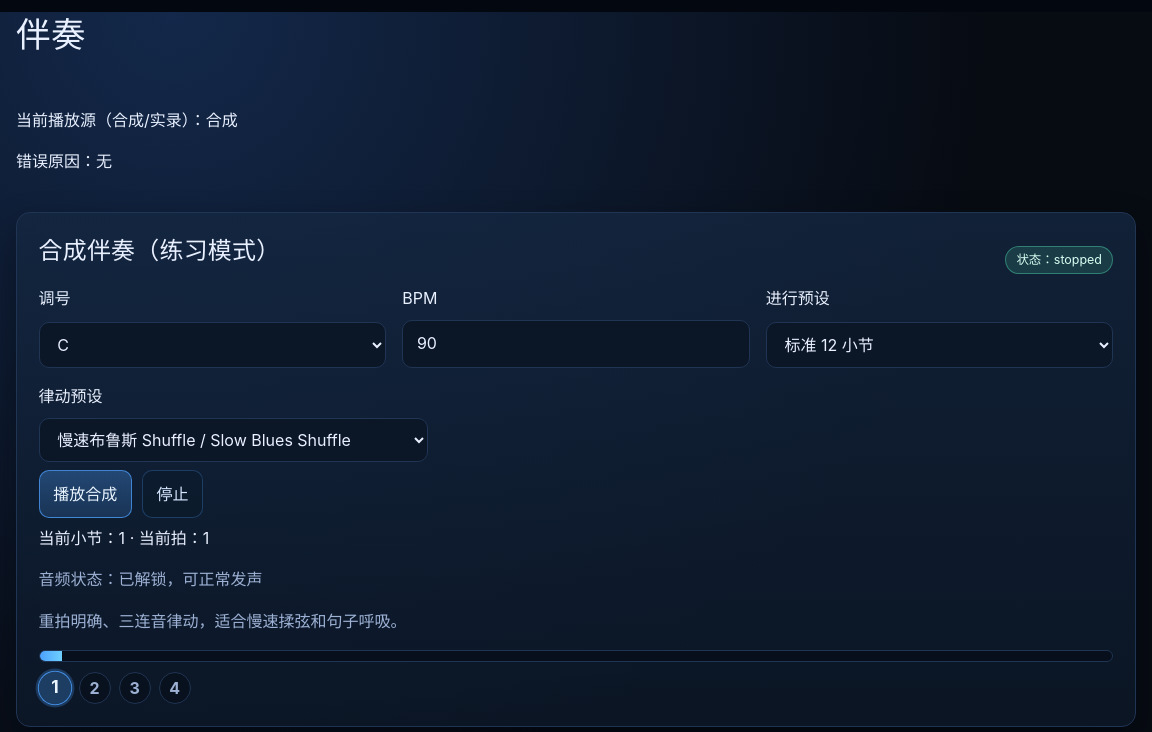
it: BackingPage › supports synth play/pause/stop
This screenshot has width=1152, height=732.
Click the button "播放合成": (85, 494) [39,470,132,518]
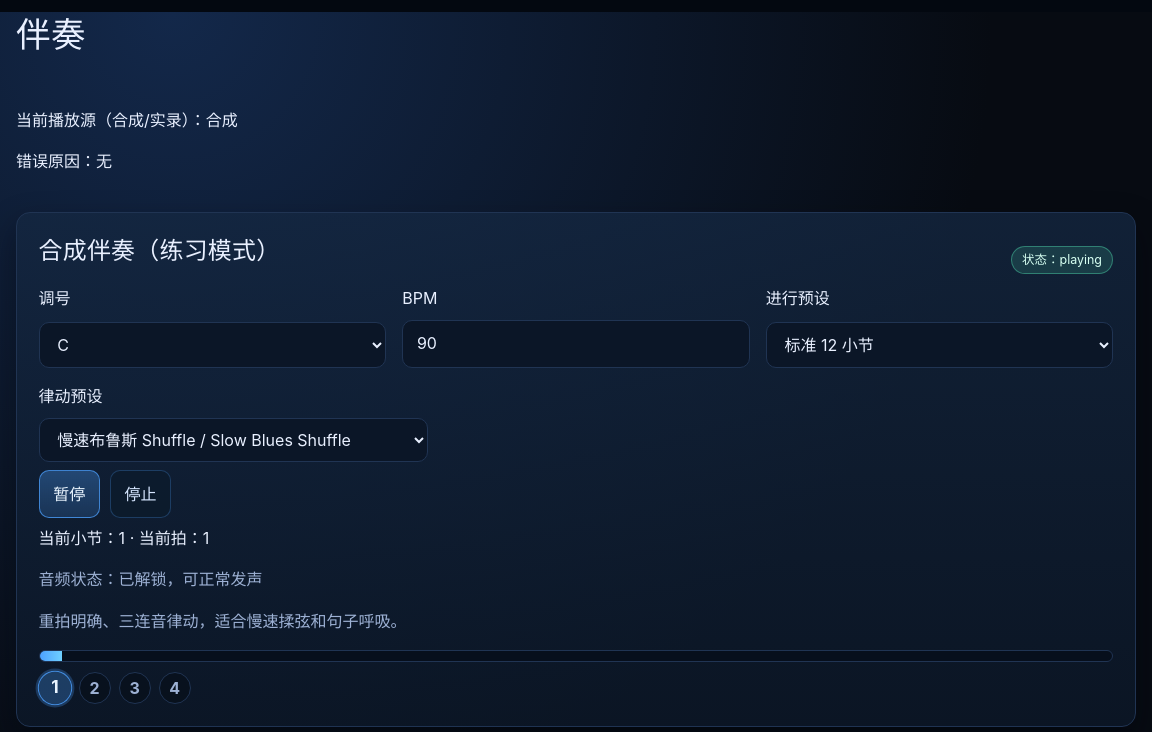
Check: the text "状态：playing" is shown, box [1011,246,1113,274]
Click the button "暂停": (69, 494) [39,470,100,518]
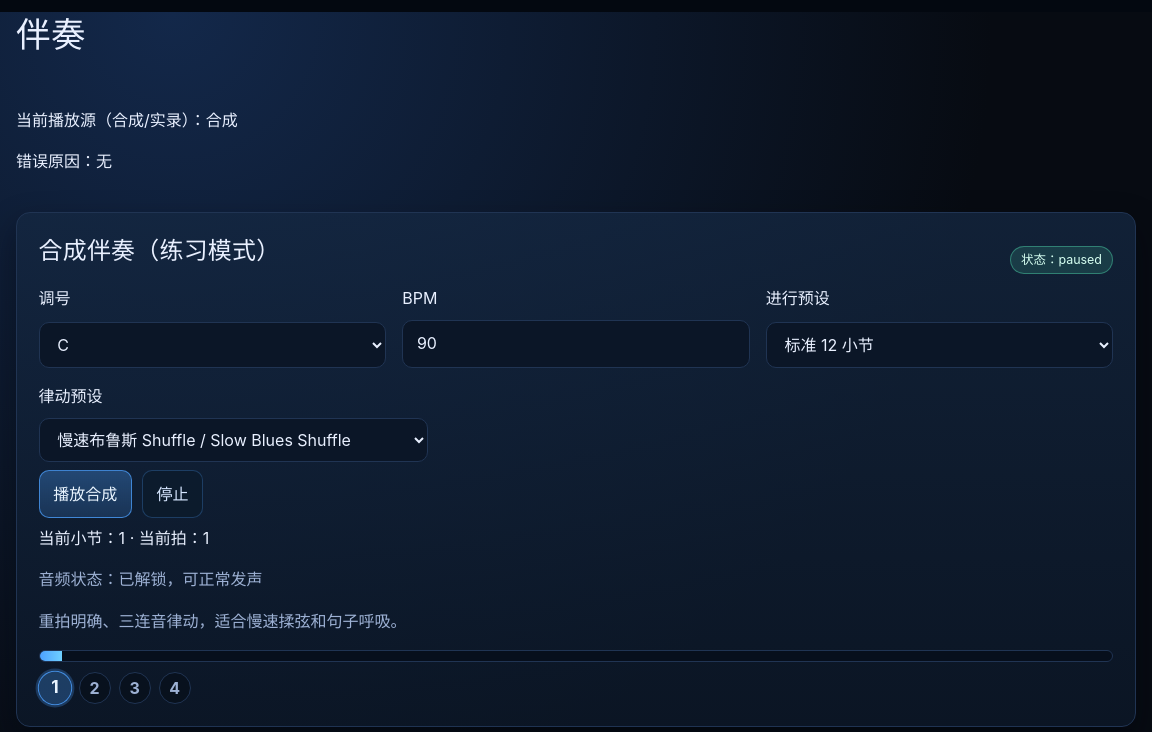
Click the button "停止": (172, 494) [142,470,203,518]
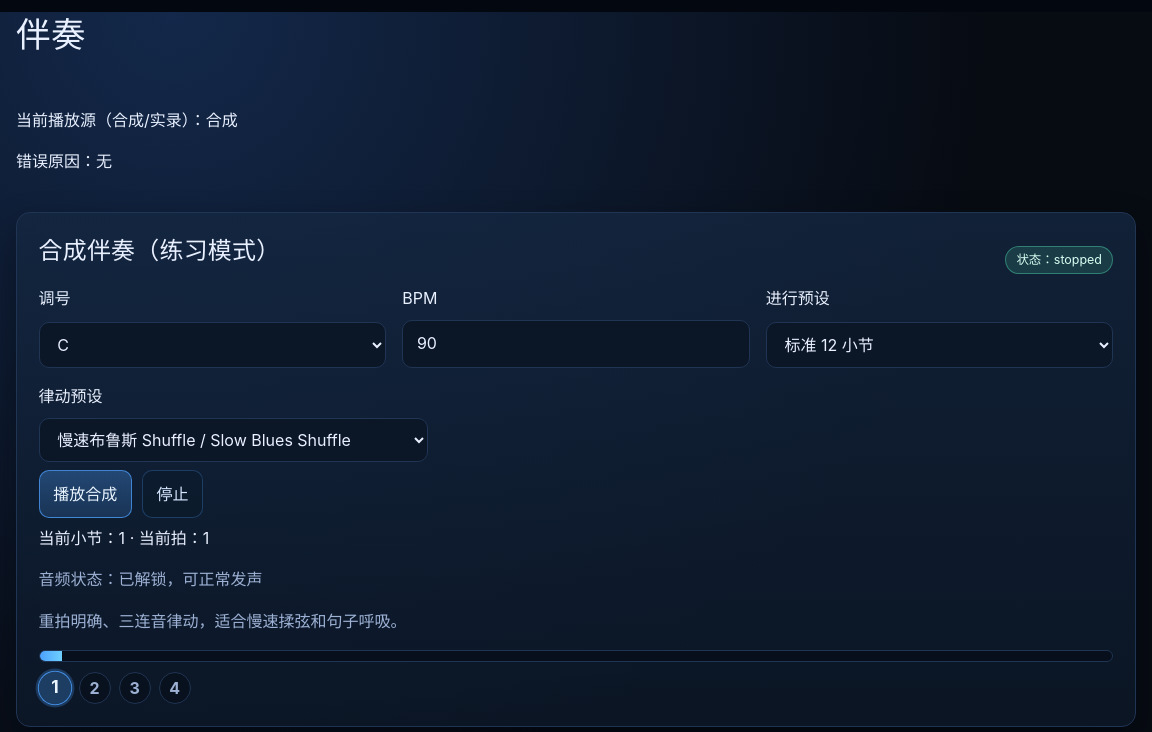
Check: the text "状态：stopped" is shown, box [1005,246,1113,274]
